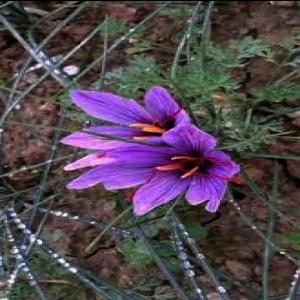Saffron: (102, 126, 231, 215), (70, 84, 180, 174)
